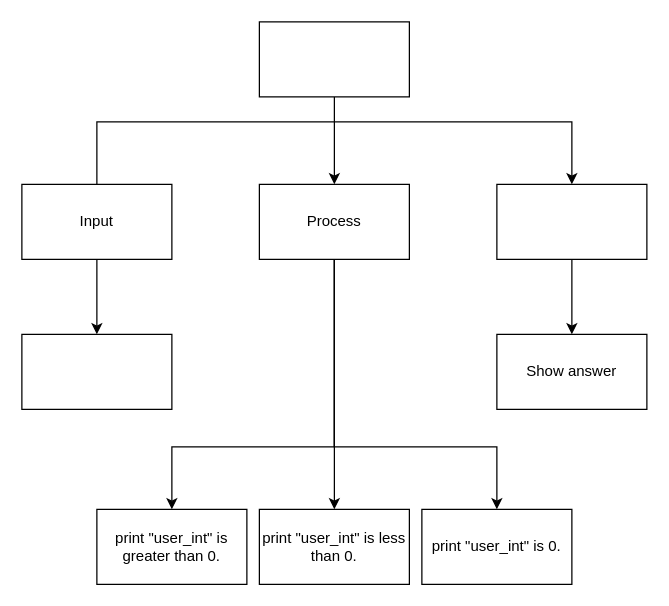
The diagram is 669 pixels wide and 606 high, and some of its shapes have lost their labels. The box of each missing label's shape, as (x1, y1, x2, y2) in pixels:
Get integer from user: (21, 333, 172, 409)
Identify integers: (258, 21, 409, 97)
Output: (496, 183, 647, 259)
